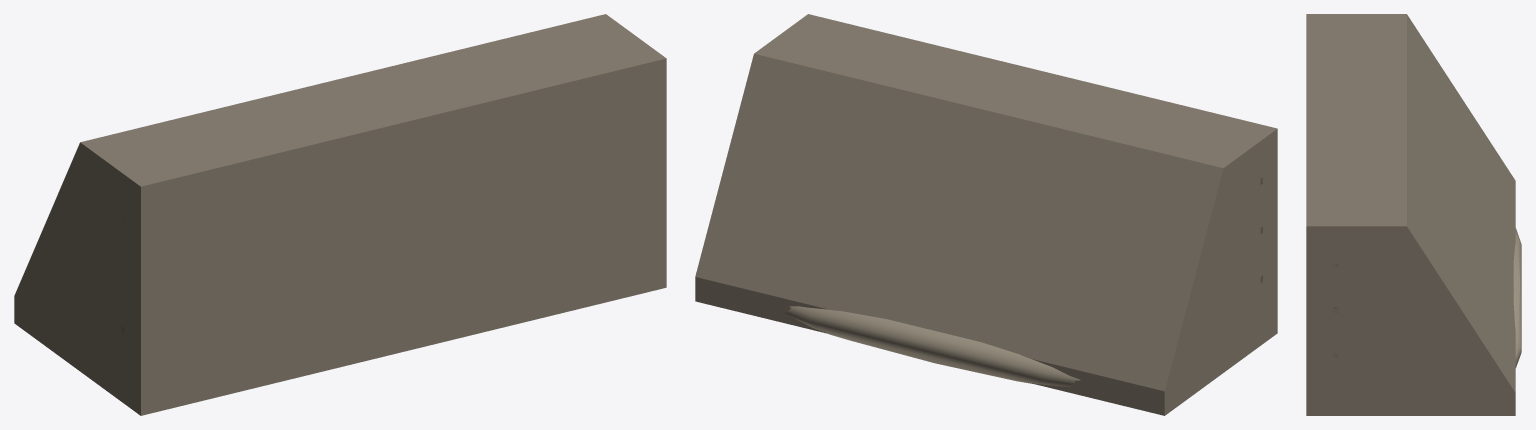
Rendered from f12-bluff-steep.glb.
The picture shows the model from 3 angles, left to right: view 1: azimuth 30°, elevation 25°; view 2: azimuth 150°, elevation 25°; view 3: azimuth 270°, elevation 25°; orthographic projection. The views are drawn at different scales.
Parts seen in each view (by area): view 1: part0; view 2: part0, part4; view 3: part0, part4.
Part boxes in pixels (left/top/right/bottom): part0: left=14, top=14, right=666, bottom=415; part0: left=695, top=14, right=1277, bottom=415; part4: left=780, top=306, right=1080, bottom=386; part0: left=1306, top=14, right=1515, bottom=415; part4: left=1513, top=228, right=1521, bottom=367.
Size of the model in its own units: 60000 by 26499 by 25689.
